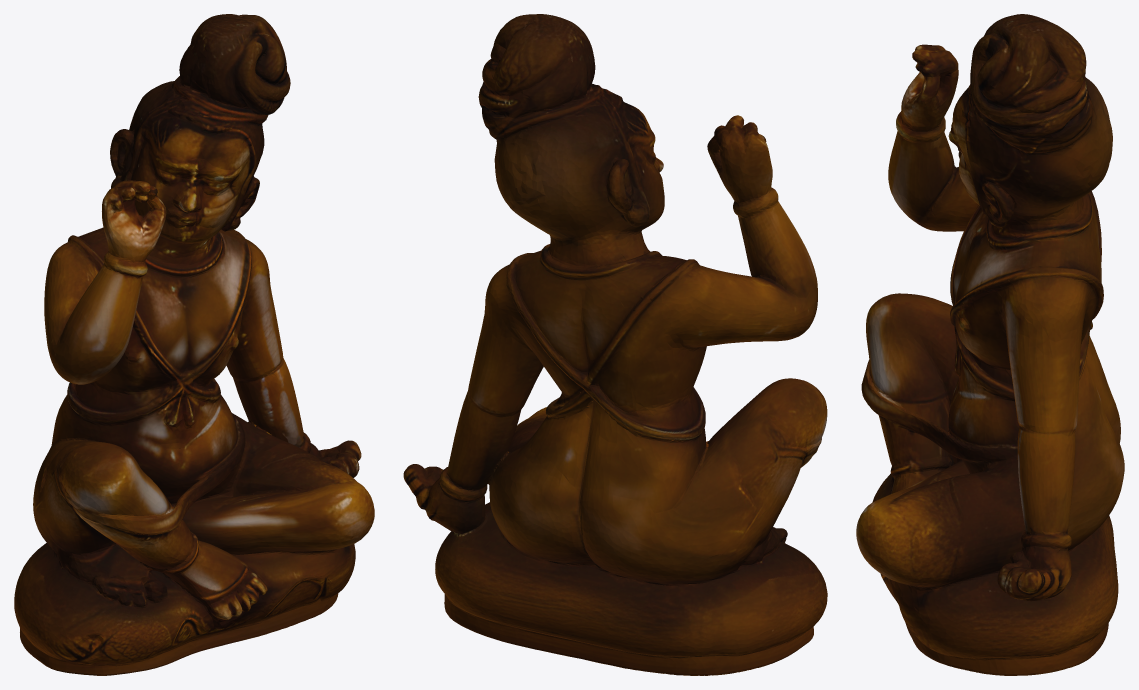
The picture shows the model from 3 angles, left to right: view 1: azimuth 30°, elevation 25°; view 2: azimuth 150°, elevation 25°; view 3: azimuth 270°, elevation 25°; orthographic projection. The views are drawn at different scales.
Parts seen in each view (by area): view 1: textured_mesh; view 2: textured_mesh; view 3: textured_mesh.
Part boxes in pixels (x1,y1,x2,y2): textured_mesh: (14, 14, 374, 675); textured_mesh: (403, 14, 827, 675); textured_mesh: (856, 14, 1124, 675).
Bounding box in the file's own units: 1.33 × 1.99 × 0.7959.
Materials: 1 (1 with a texture image).
